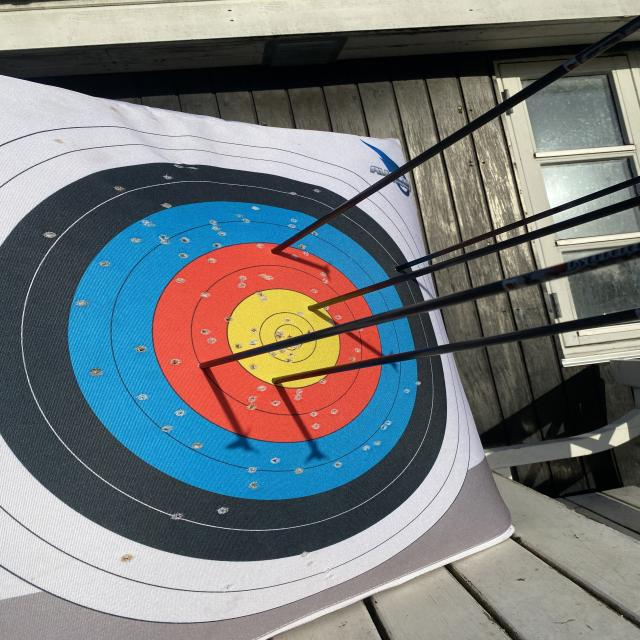Arrow_Black: (390, 256, 410, 278)
Arrow_Red: (266, 234, 300, 269), (189, 348, 219, 380)
Arrow_Yellow: (260, 369, 298, 392), (304, 292, 328, 318)
